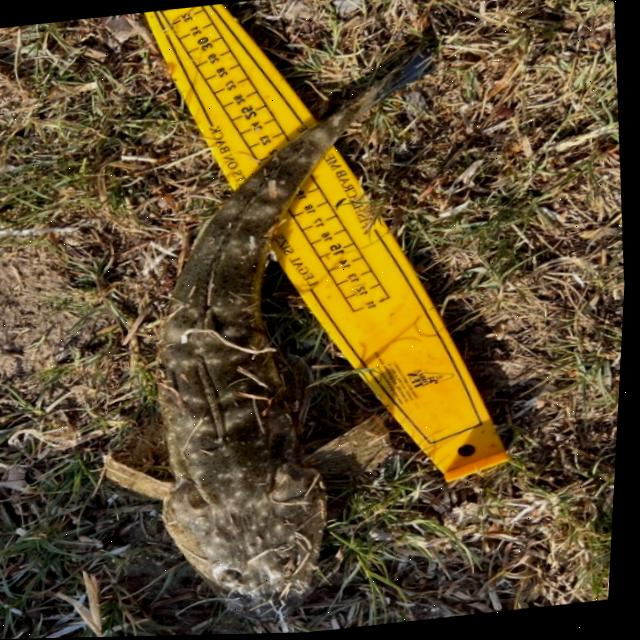Flathead: (57, 25, 498, 639)
